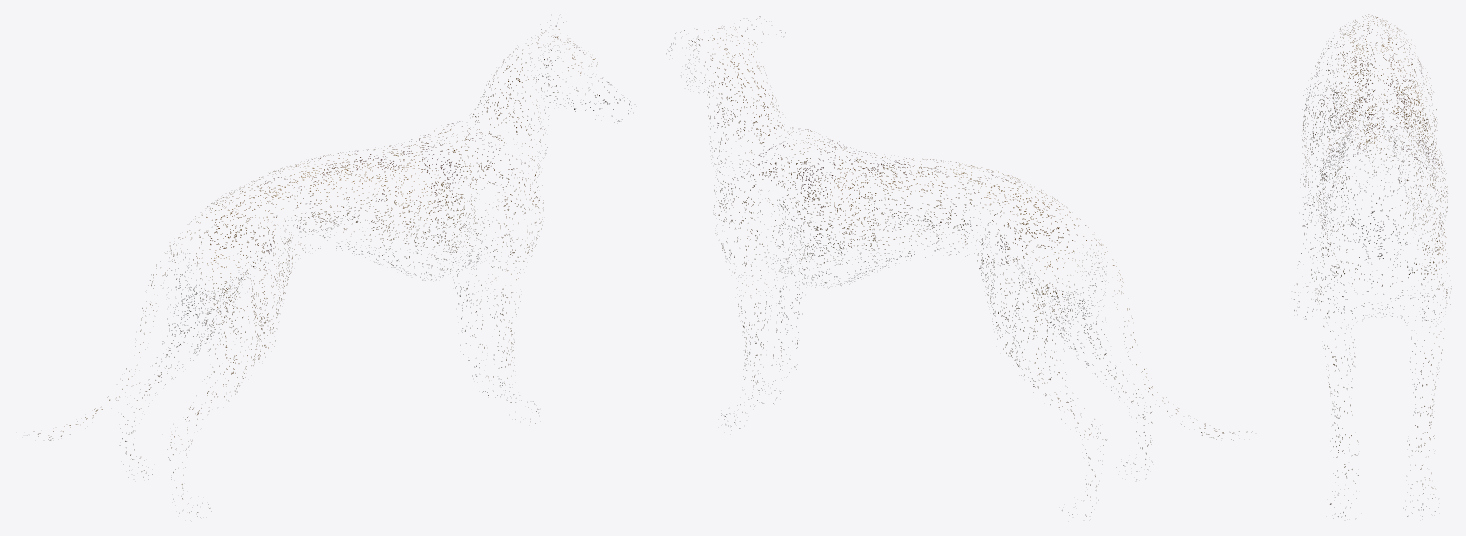
The model's file is standing_dog_realistic.glb.
3 views of the same model, side by side, from view 1: azimuth 30°, elevation 25°; view 2: azimuth 150°, elevation 25°; view 3: azimuth 270°, elevation 25° (orthographic). The views are drawn at different scales.
Parts seen in each view (by area): view 1: Spanish_Greyhound_Dog; view 2: Spanish_Greyhound_Dog; view 3: Spanish_Greyhound_Dog.
Boxes of the visible parts, <box> form: Spanish_Greyhound_Dog: <box>27,20,631,517</box>; Spanish_Greyhound_Dog: <box>666,16,1252,516</box>; Spanish_Greyhound_Dog: <box>1294,14,1451,518</box>.
Bounding box in the file's own units: 1.24 × 0.7492 × 0.2508.
1 material, 1 textured.
